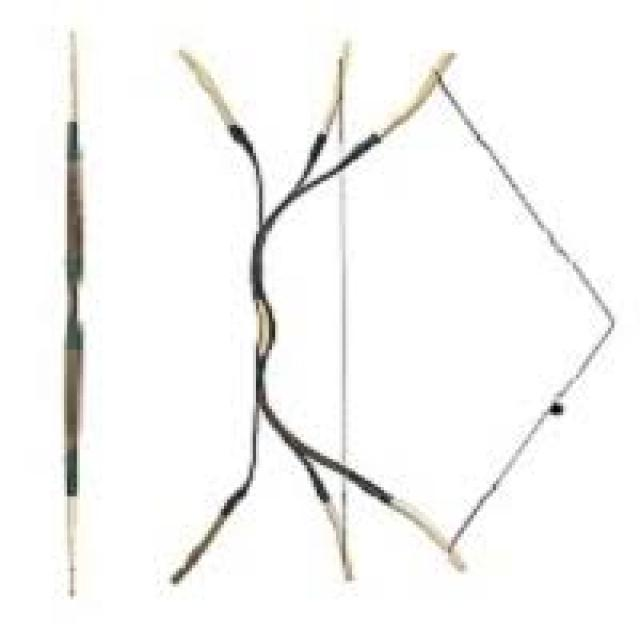X-Bow: (255, 53, 609, 576), (254, 46, 351, 578)
